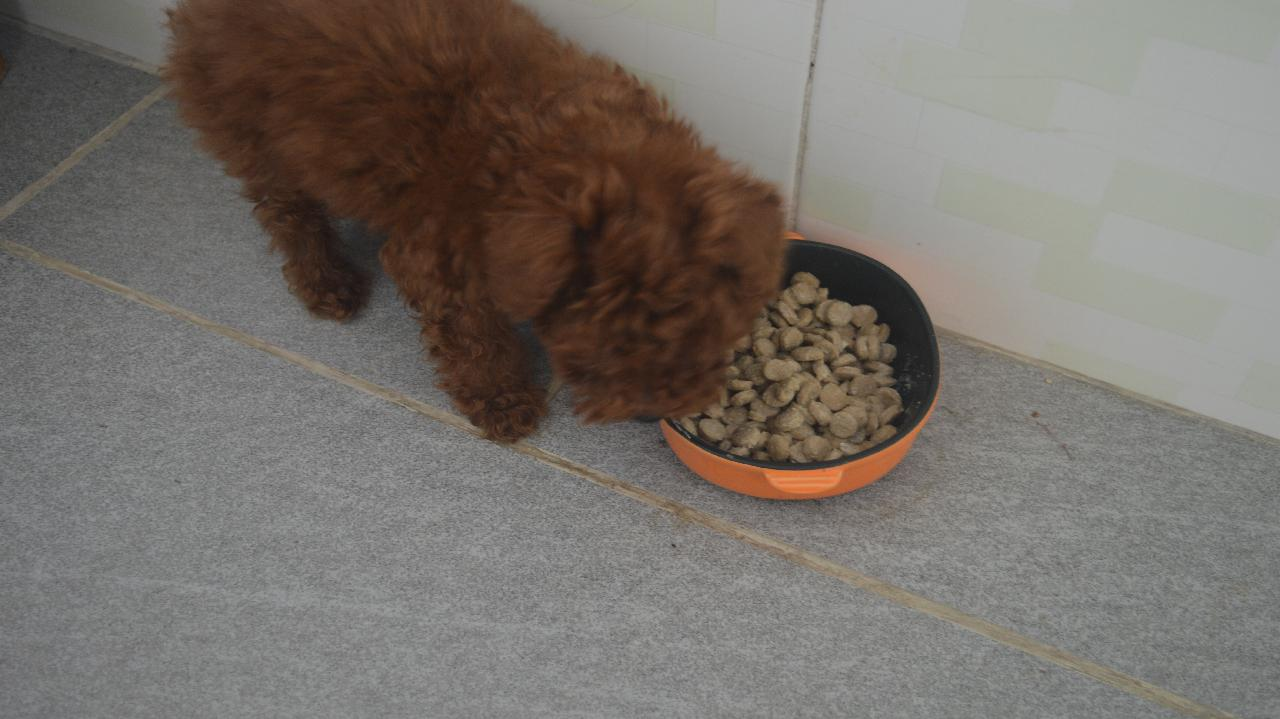coin: (149, 7, 772, 462)
